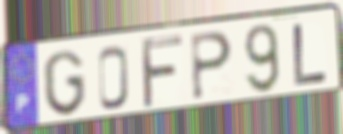0: (96, 43, 130, 112)
9: (241, 22, 282, 96)
F: (139, 33, 186, 112)
G: (41, 48, 88, 119)
L: (290, 21, 330, 89)
P: (189, 30, 234, 102)
